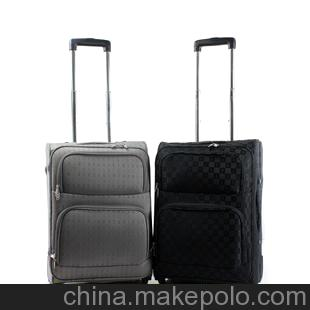luggage: (42, 35, 155, 284)
